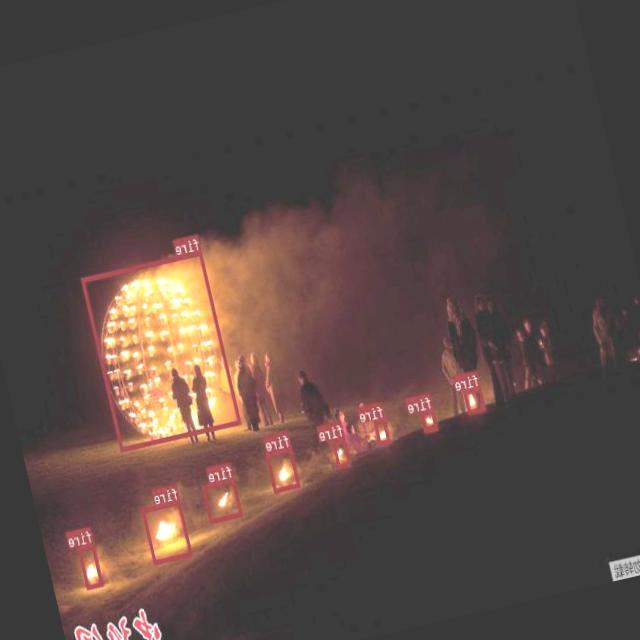fire: (81, 249, 241, 451), (141, 498, 193, 564), (202, 477, 243, 522), (265, 446, 301, 492), (76, 541, 105, 589), (332, 436, 352, 467), (464, 385, 486, 413), (373, 416, 392, 445), (419, 407, 438, 432)
